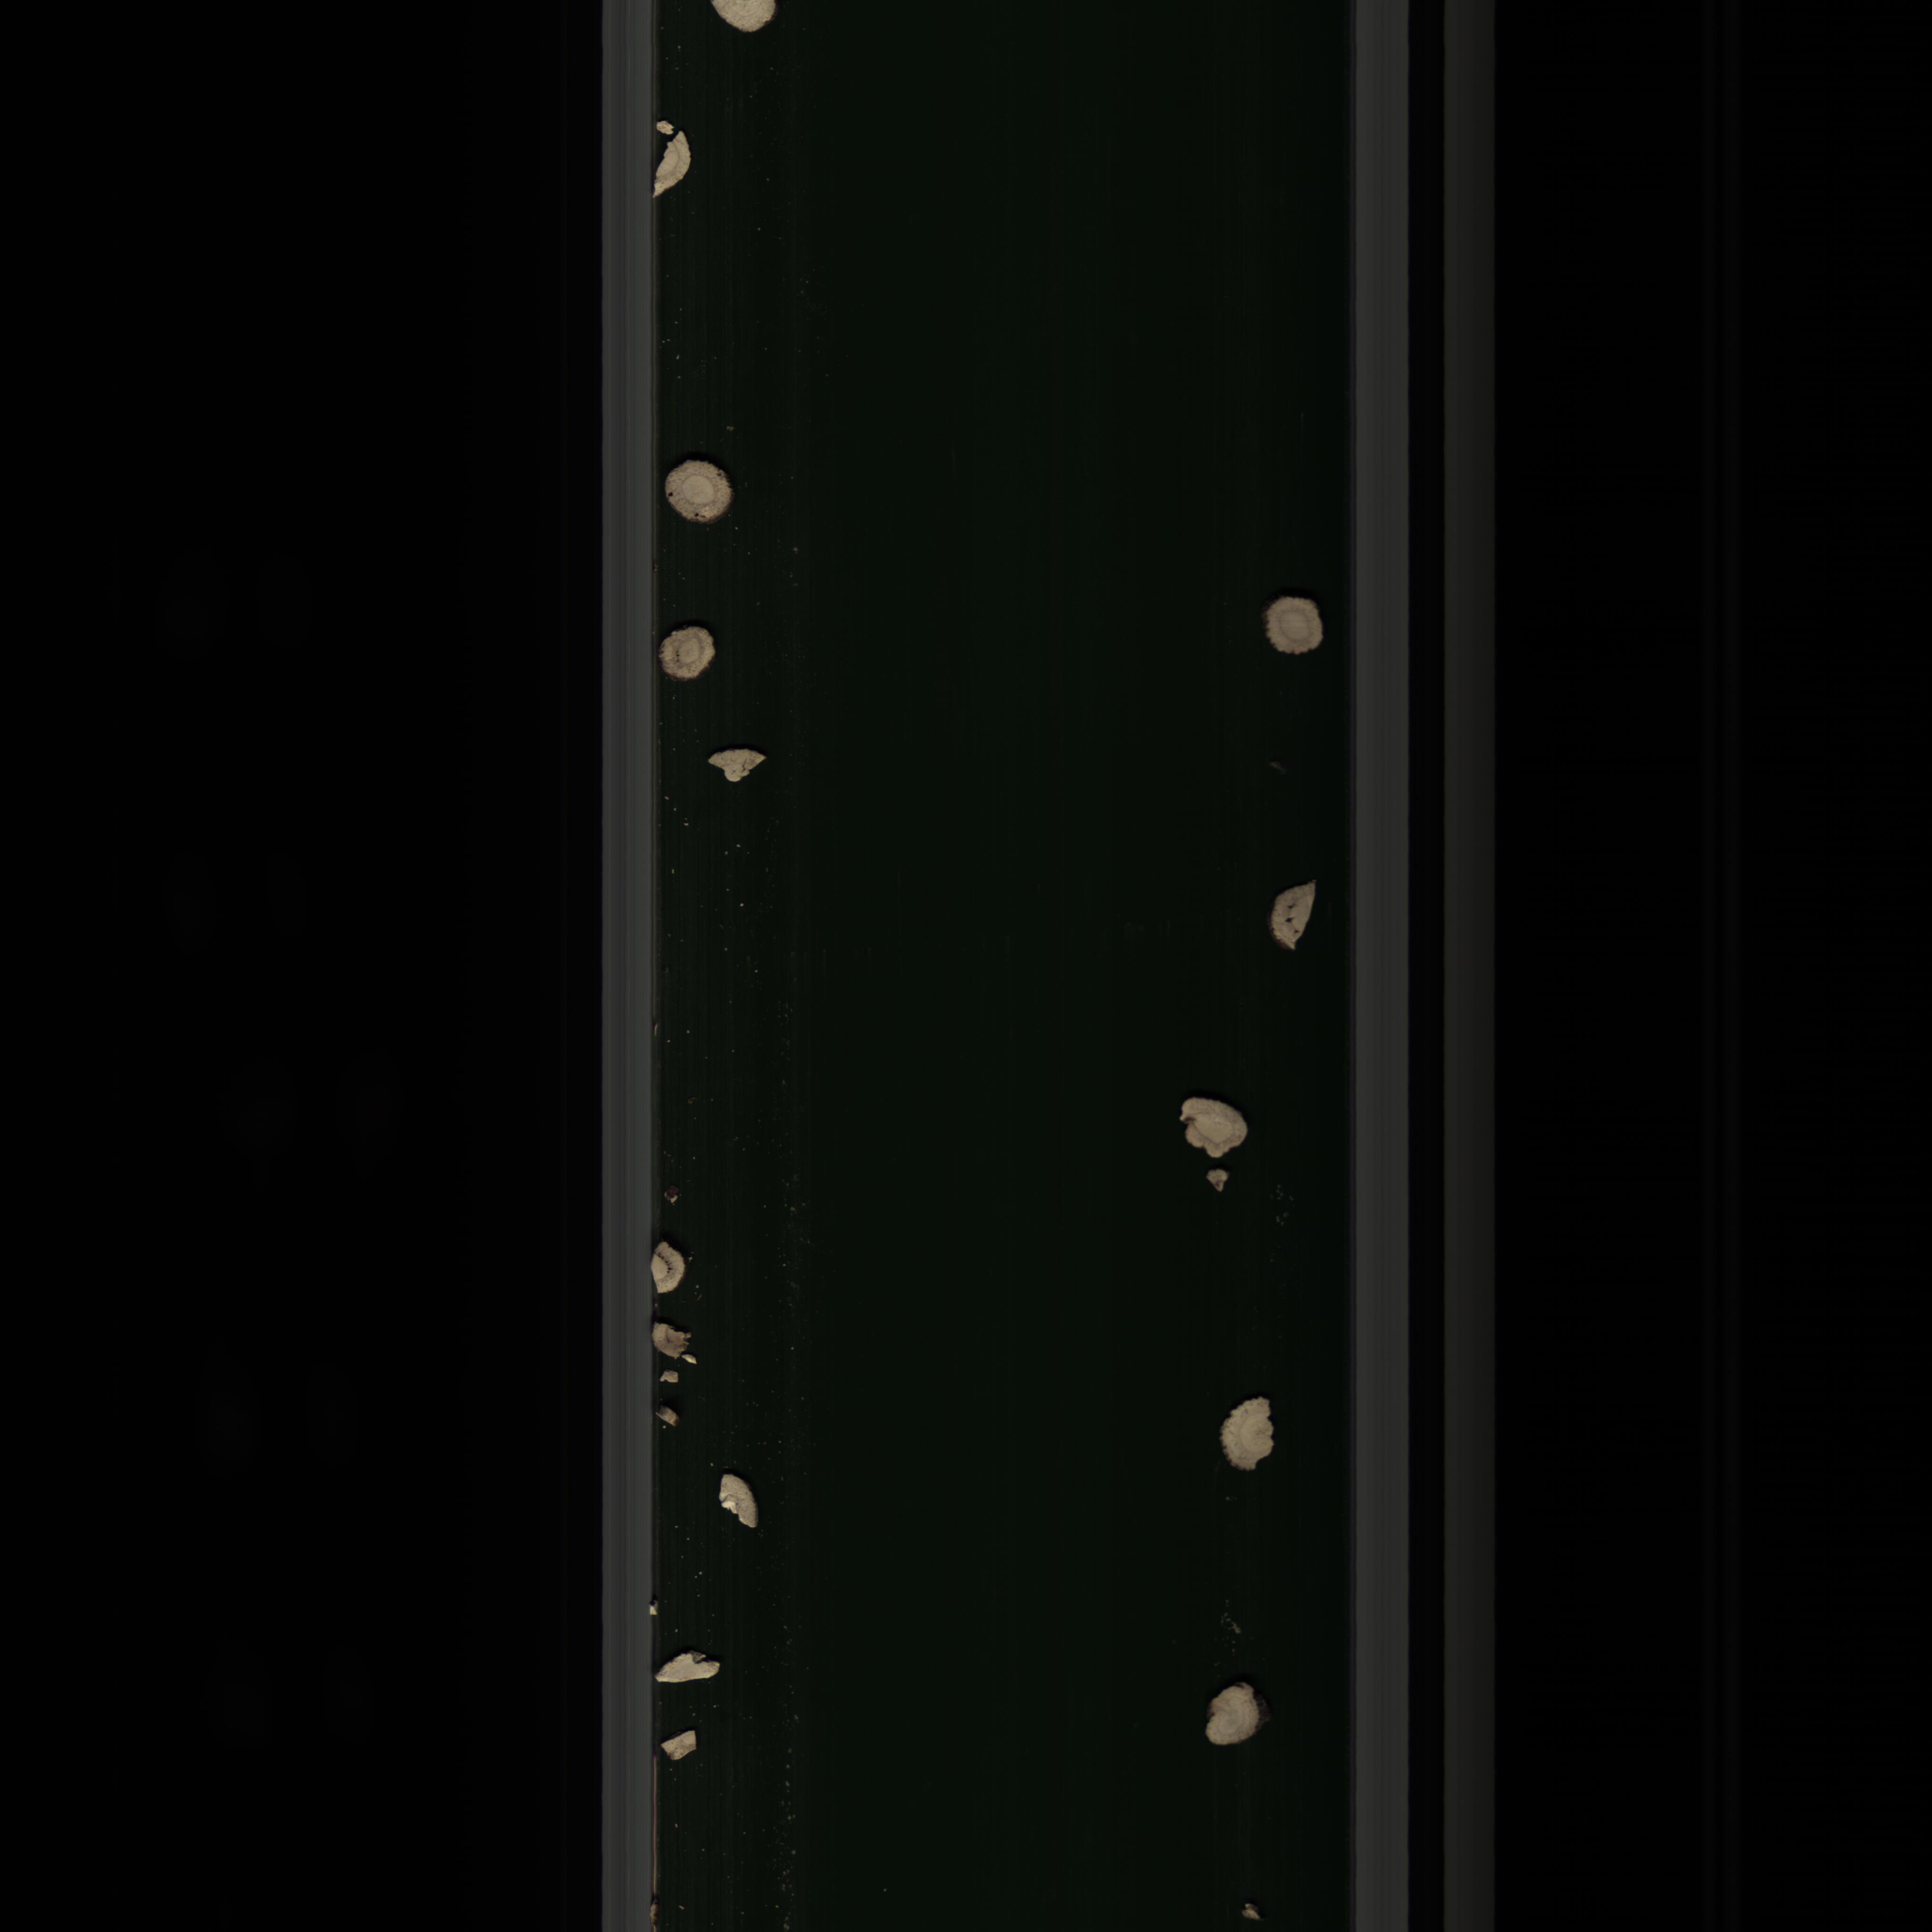debris: (1214, 1391, 1293, 1484), (1261, 879, 1320, 954), (649, 117, 692, 207), (709, 1470, 766, 1534), (651, 1651, 727, 1695), (702, 741, 771, 789), (642, 1237, 688, 1297), (653, 1316, 699, 1362), (658, 1727, 708, 1764), (651, 1399, 685, 1426)
distortion: (1178, 1092, 1261, 1162)
